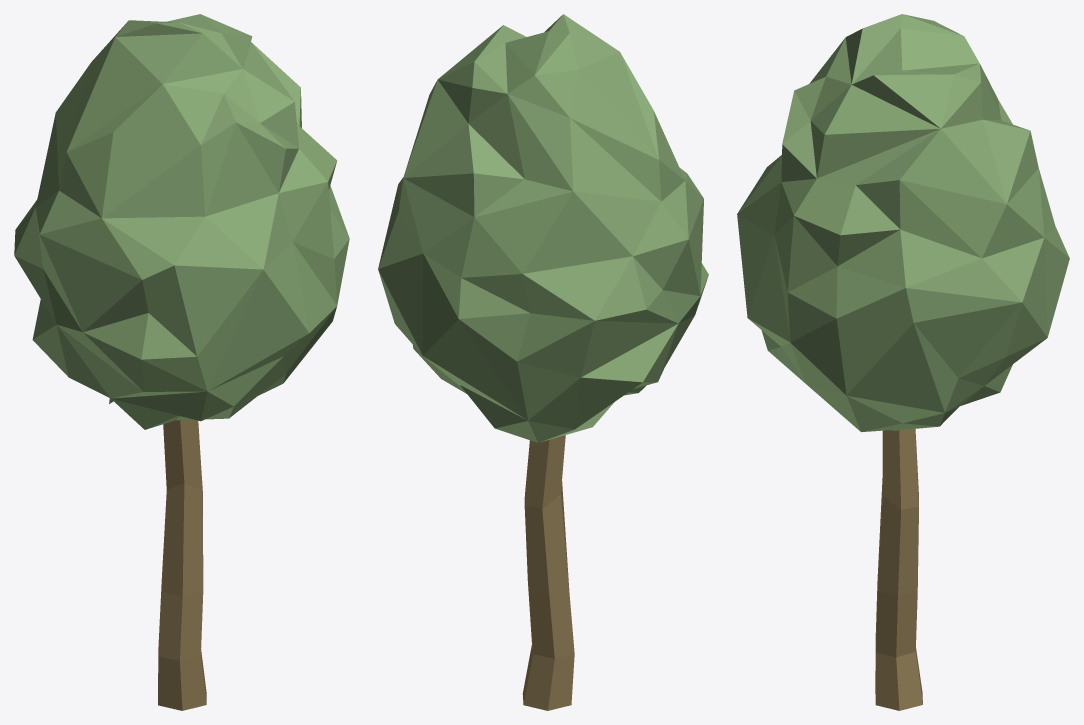
File: LowPoly_Tree.fbx
3 views of the same model, side by side, from view 1: azimuth 30°, elevation 25°; view 2: azimuth 150°, elevation 25°; view 3: azimuth 270°, elevation 25° (orthographic).
Parts seen in each view (by area): view 1: pCube1, pCylinder1; view 2: pCube1, pCylinder1; view 3: pCube1, pCylinder1.
Part boxes in pixels (<box>): pCube1: <box>14,14,349,429</box>; pCylinder1: <box>158,419,206,710</box>; pCube1: <box>378,14,708,442</box>; pCylinder1: <box>522,435,574,710</box>; pCube1: <box>737,14,1069,432</box>; pCylinder1: <box>875,429,922,710</box>.
Bounding box in the file's own units: 19.61 × 43.98 × 19.7.
